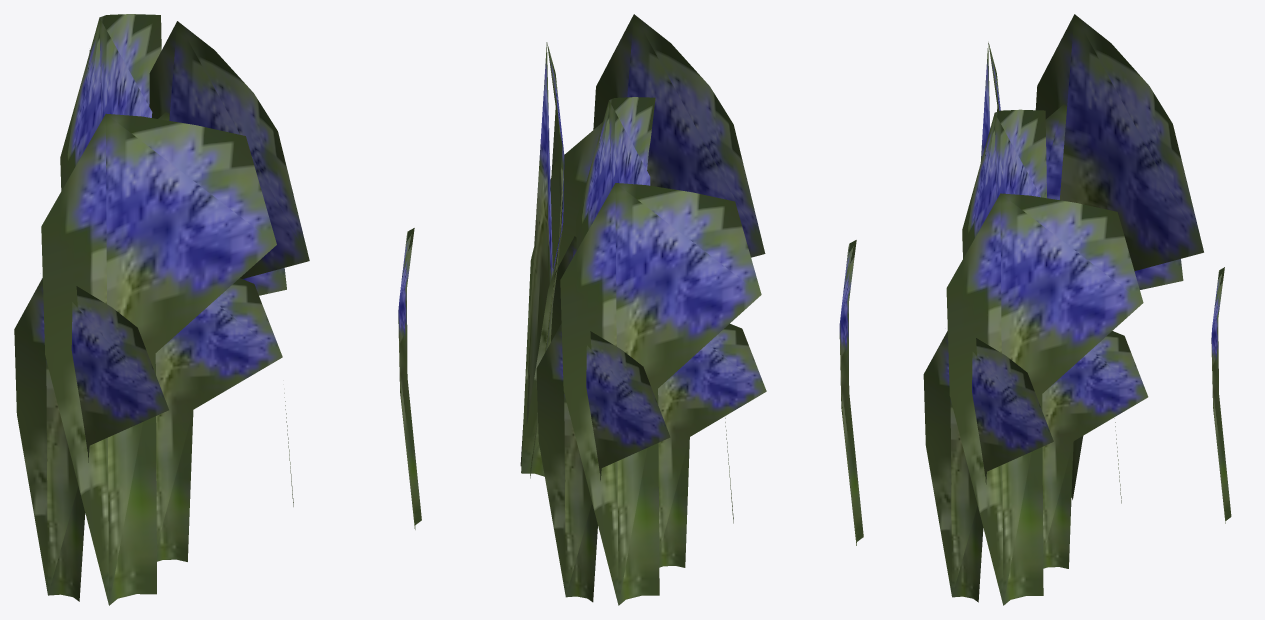
Rendered from cornflower.glb.
3 renders of one model, left to right at view 1: azimuth 30°, elevation 25°; view 2: azimuth 150°, elevation 25°; view 3: azimuth 270°, elevation 25°, orthographic. The views are drawn at different scales.
Visible parts, largest first — view 1: high, low; view 2: high, low; view 3: low, high.
Boxes of the visible parts, left/top/right/bottom form: high: left=14, top=14, right=421, bottom=605; low: left=46, top=18, right=309, bottom=604; high: left=520, top=14, right=863, bottom=605; low: left=520, top=14, right=766, bottom=604; low: left=950, top=14, right=1203, bottom=604; high: left=923, top=14, right=1231, bottom=605.
Size of the model in its own units: 0.8897 by 1.15 by 0.7306.
1 material, 1 textured.
